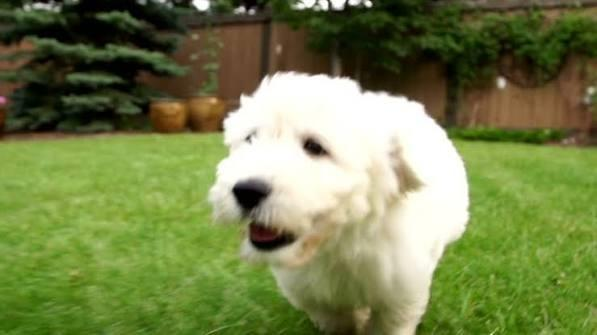puppy-dog: (206, 68, 472, 335)
